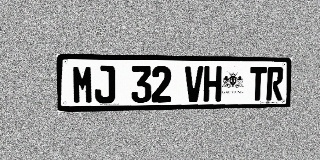2: (152, 66, 171, 103)
3: (131, 66, 151, 103)
H: (203, 66, 222, 102)
J: (94, 65, 115, 104)
M: (72, 65, 94, 104)
R: (266, 67, 284, 100)
T: (249, 67, 267, 101)
V: (184, 66, 203, 102)
